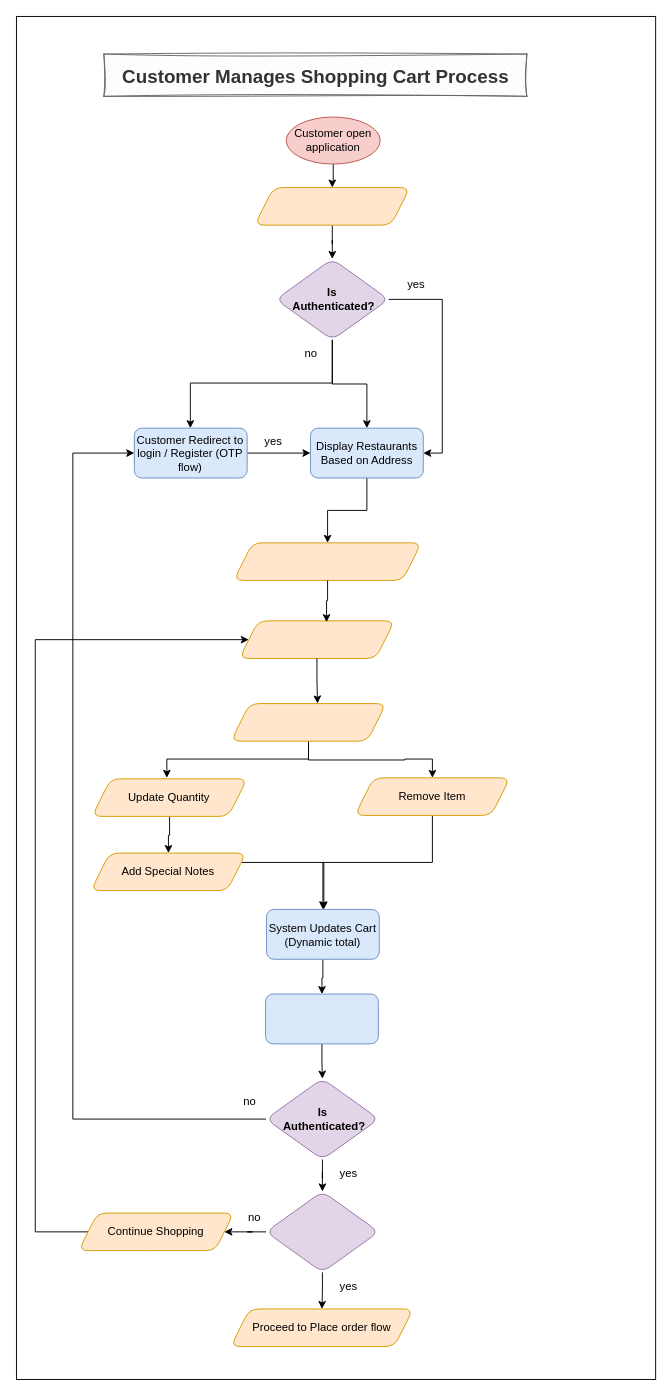
This 672x1396 diagram has some shape labels left out. Each missing label, with the centre of its shape:
Add item to Cart (Cart Badge Updated): pixel 316 639
can save cart for later / proceed to checkout: pixel 321 1018
Open Cart: pixel 308 722
Ready To Checkout?: pixel 322 1231
Select Address (Auto/Manual Input): pixel 332 206
Selects Restaurant and Browse Menu Items: pixel 327 561
